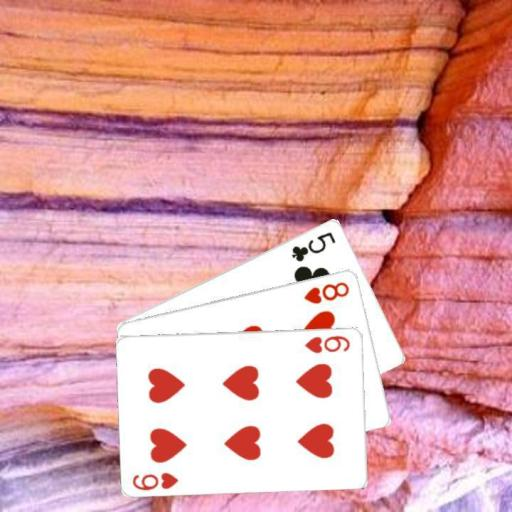card-corner: (288, 228, 337, 263), (301, 278, 351, 305), (302, 332, 352, 354), (130, 470, 180, 492)
